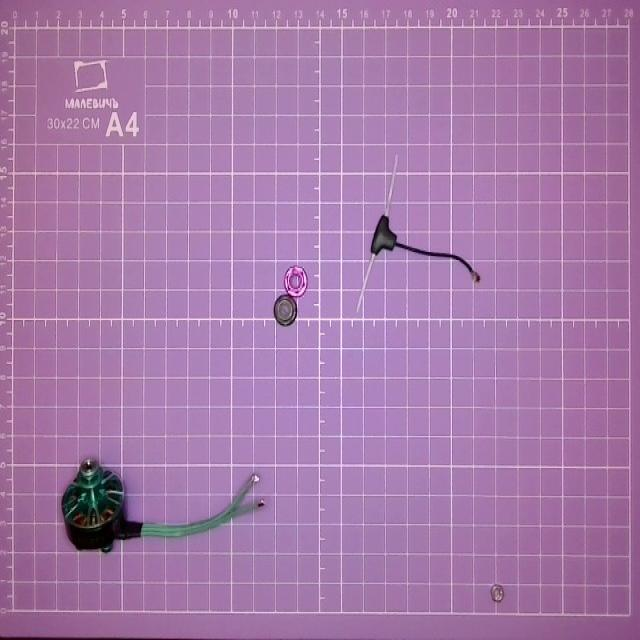antenna: (352, 149, 486, 306)
motor: (59, 455, 269, 558)
screw_M3: (490, 582, 504, 604)
screw_M5: (270, 294, 298, 326), (284, 262, 307, 298)
